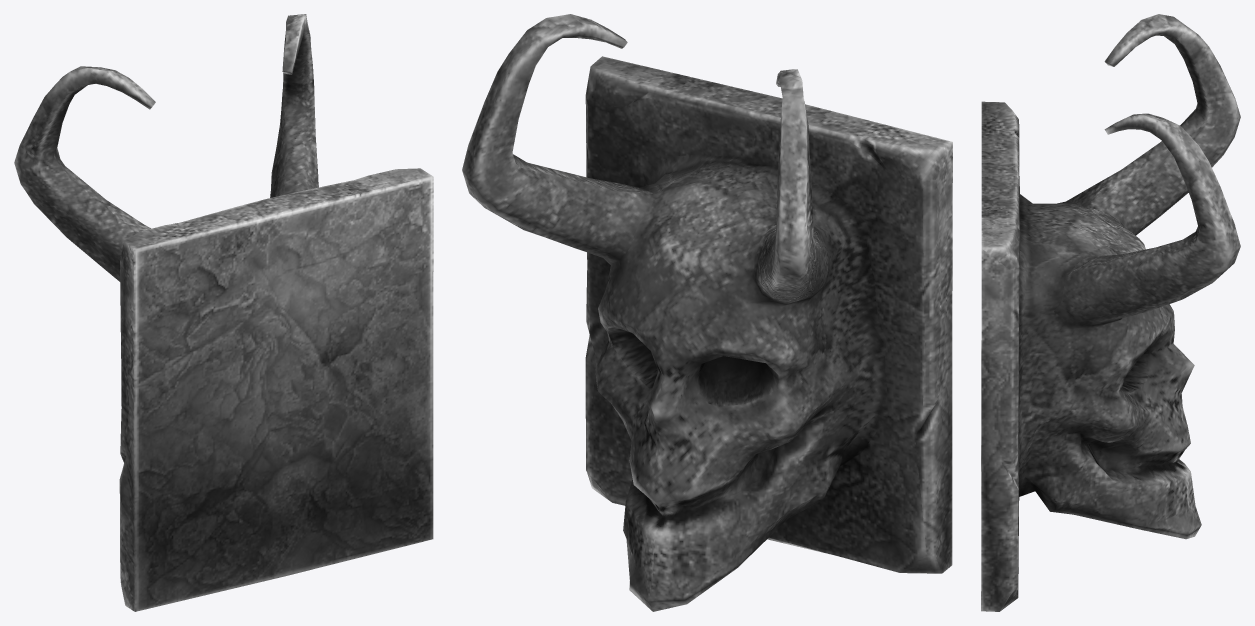
File: SkullsProps01.fbx
The picture shows the model from 3 angles, left to right: view 1: azimuth 30°, elevation 25°; view 2: azimuth 150°, elevation 25°; view 3: azimuth 270°, elevation 25°; orthographic projection. The views are drawn at different scales.
Visible parts, largest first — view 1: SkullsProps01; view 2: SkullsProps01; view 3: SkullsProps01.
Boxes of the visible parts, x1,y1,x2,y2 form: SkullsProps01: (14,14,433,611); SkullsProps01: (462,14,952,611); SkullsProps01: (981,14,1240,611).
Size of the model in its own units: 1.04 by 1.56 by 0.7756.
Materials: 1 (1 with a texture image).
